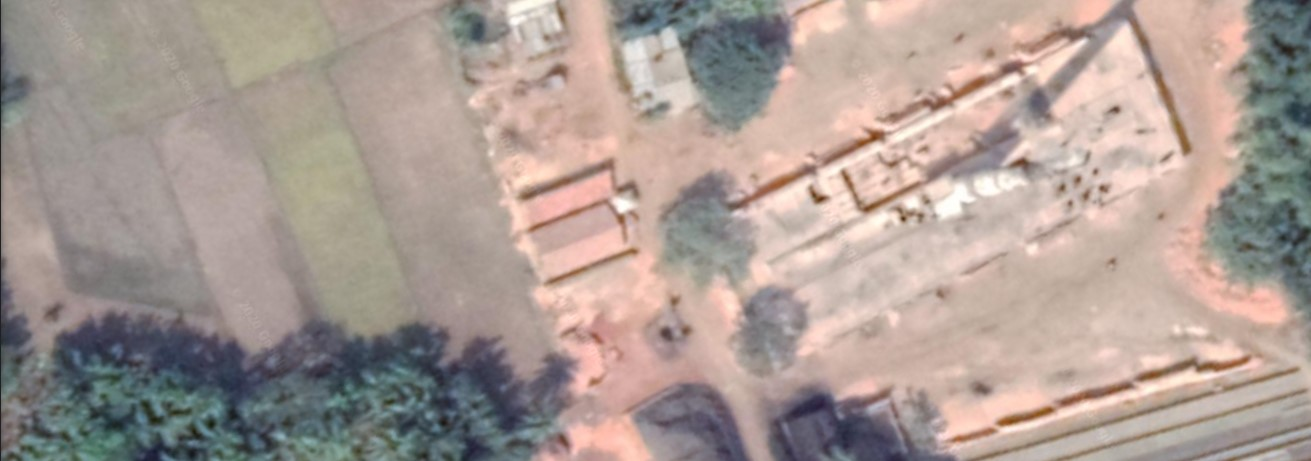kiln: (794, 10, 1205, 265)
